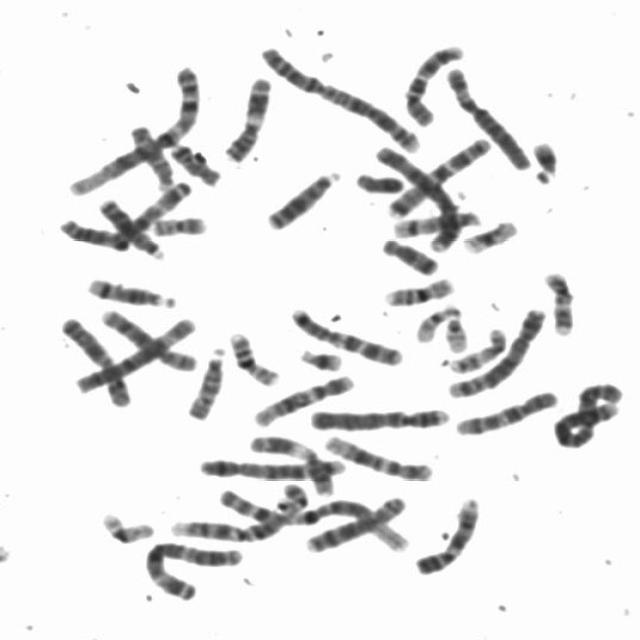A1: (62, 58, 206, 197), (212, 481, 418, 554)
A2: (252, 38, 426, 154), (548, 374, 629, 450)
A3: (54, 172, 198, 250), (137, 532, 249, 602)
B4: (367, 137, 464, 254), (304, 399, 456, 432)
B5: (442, 300, 552, 399), (192, 450, 350, 482)
C10: (398, 36, 469, 128), (448, 382, 564, 437)
C11: (243, 426, 340, 496), (218, 69, 276, 164)
C12: (248, 366, 360, 428), (318, 427, 439, 482)
C6: (67, 310, 201, 394), (440, 60, 536, 171)
C7: (381, 130, 496, 220), (285, 300, 408, 368)
C8: (96, 300, 200, 372), (300, 489, 410, 555)
C9: (163, 476, 313, 543), (409, 490, 485, 577)
D13: (261, 162, 346, 232), (93, 192, 170, 262)
D14: (80, 270, 181, 310), (388, 203, 486, 239)
D15: (122, 116, 178, 190), (182, 342, 230, 422)
E16: (222, 324, 284, 388), (378, 269, 459, 308)
E17: (444, 320, 511, 375), (537, 264, 580, 338)
E18: (376, 230, 445, 276), (164, 137, 226, 187)
F19: (457, 213, 523, 255), (95, 504, 159, 545)
F20: (146, 208, 212, 238), (274, 483, 310, 514)
G21: (525, 133, 565, 184), (293, 340, 348, 373)
G22: (410, 298, 464, 344), (439, 300, 473, 354)
X: (55, 309, 138, 409)
Y: (349, 165, 409, 196)
